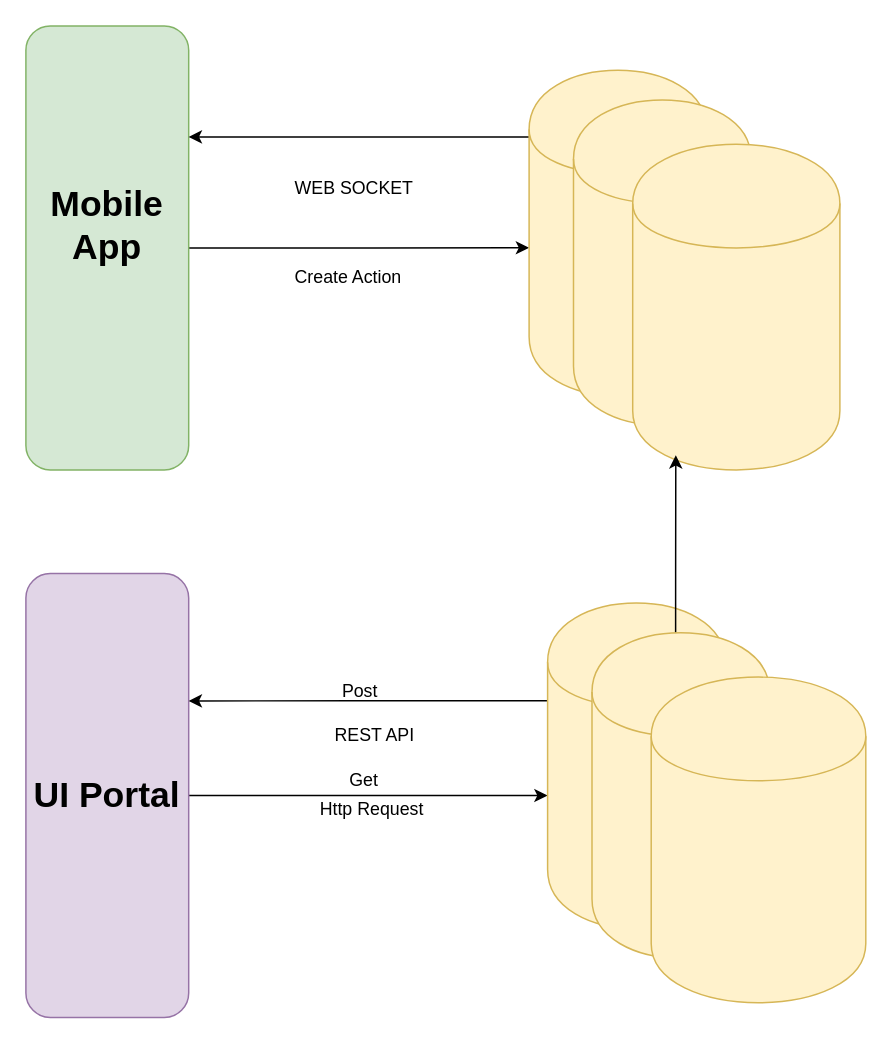
Some shapes in this 892 by 1043 pixel diagram are drawn without their labels. Each missing label, with the box of its shape:
Database Server: (631, 143, 840, 470)
Messaging Server: (650, 676, 866, 1003)
